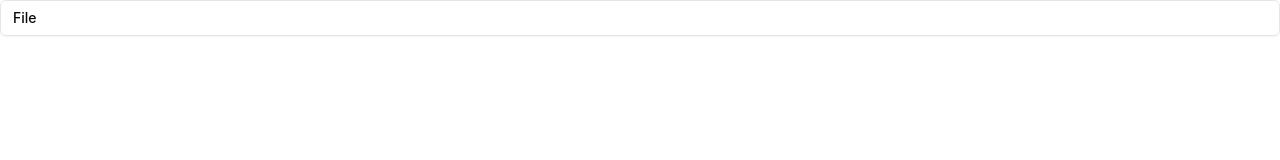
Scenario: Menubar Component › should open menu on trigger click
Radix Menubar opens on pointerdown (not click) on the trigger.
Press the mouse on the menu item "File" at (25, 18), box x1=5 y1=4 x2=44 y2=32
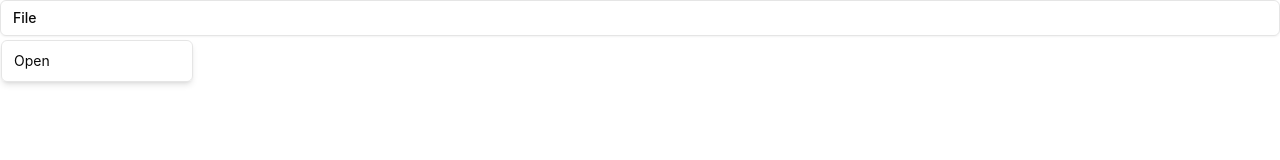
Check: the menu item "Open" is shown, box x1=14 y1=52 x2=50 y2=69
